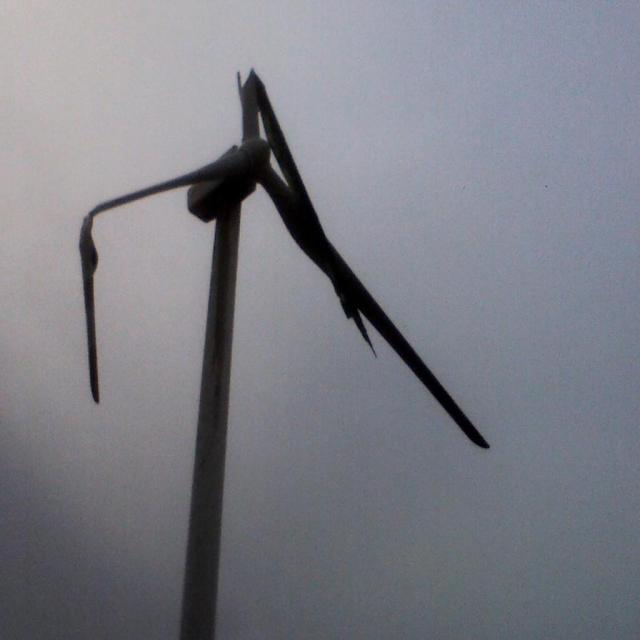crack: (239, 62, 370, 330), (66, 208, 120, 403)
